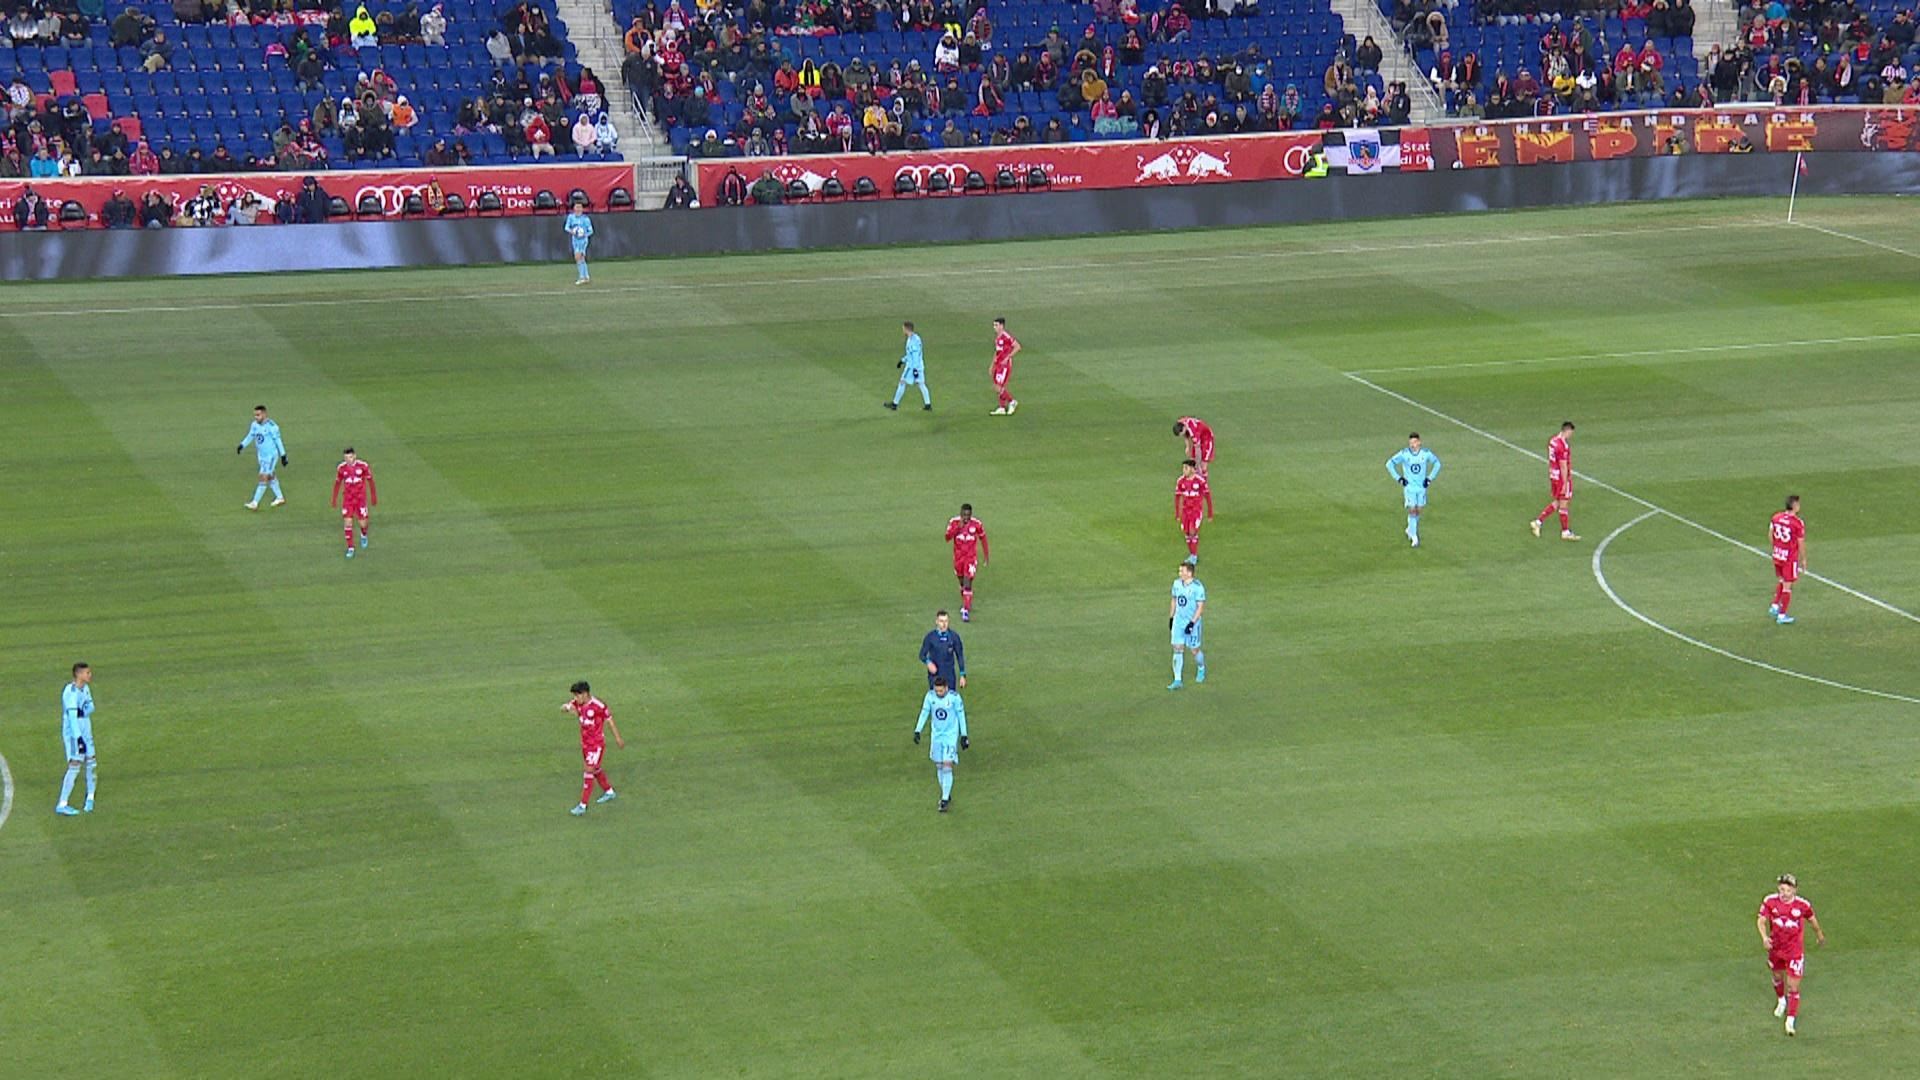football: (575, 229, 583, 235)
